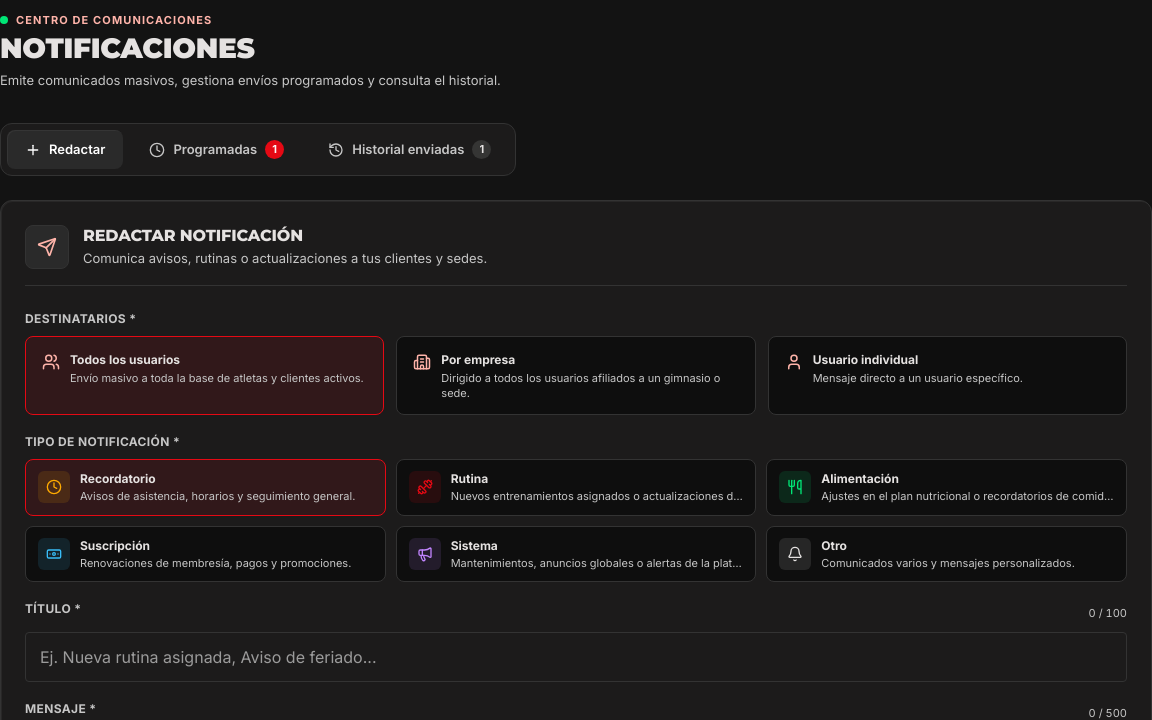
NotificacionesView › permite alternar a la pestaña de Enviadas y muestra el historial
Click the tab with class "notificaciones__tab" showing "Historial enviadas 1" at (410, 150), box [310,130,510,170]
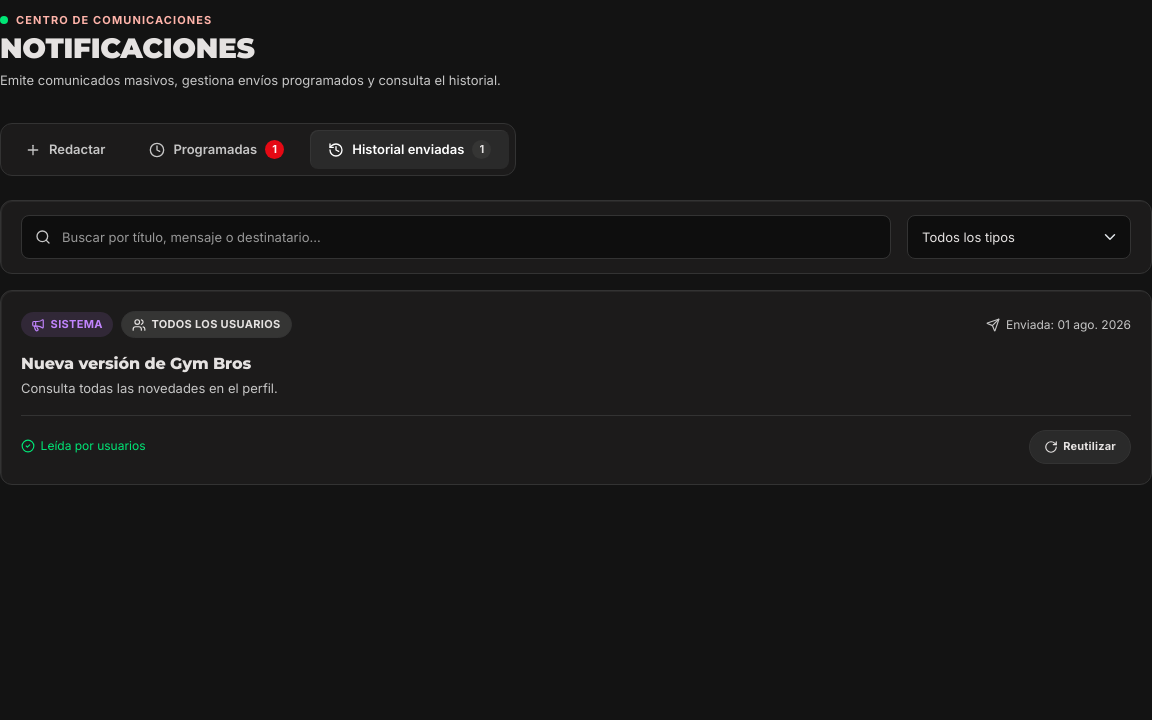
expect the text "Nueva versión de Gym Bros" is shown: met, box [21,354,251,373]
